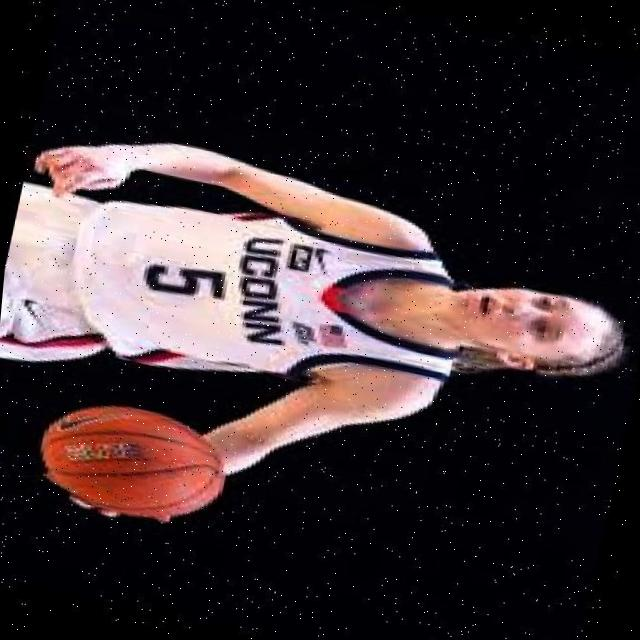ball: (29, 388, 235, 532)
